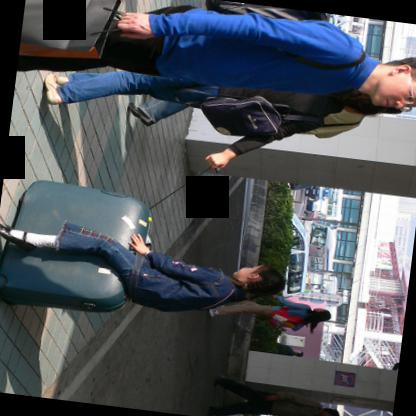backpack: (267, 307, 304, 327)
handbag: (197, 96, 325, 135)
suitcase: (0, 180, 152, 312)
